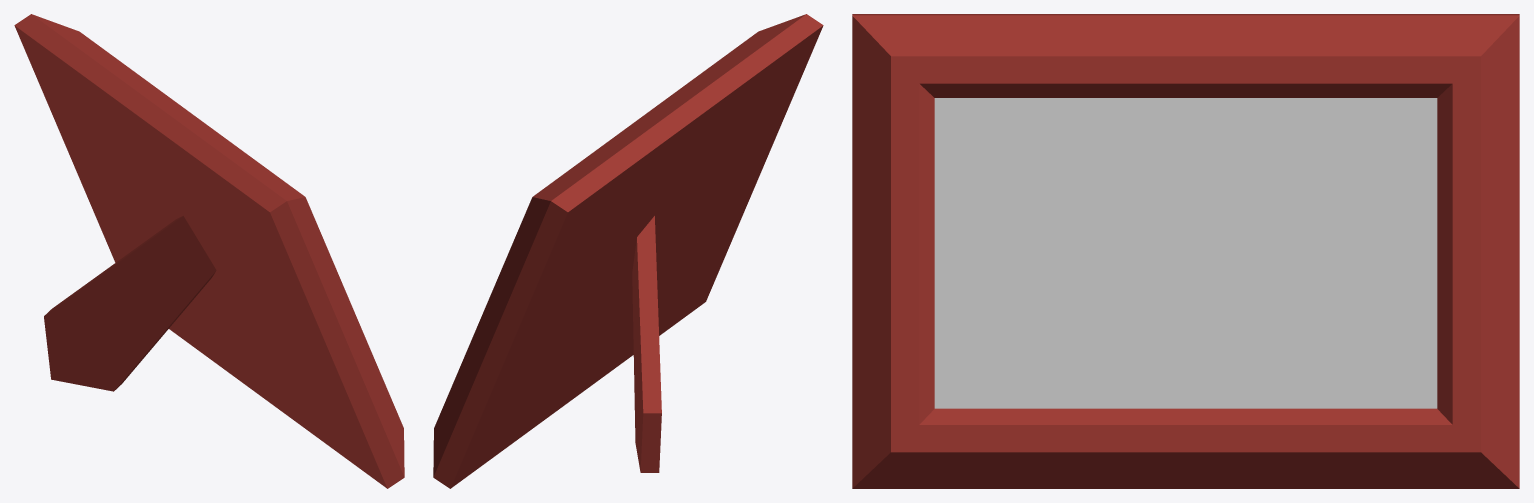
Rendered from pictureframe.fbx.
3 views of the same model, side by side, from view 1: azimuth 30°, elevation 25°; view 2: azimuth 150°, elevation 25°; view 3: azimuth 270°, elevation 25° (orthographic). The views are drawn at different scales.
Visible parts, largest first — view 1: Cube; view 2: Cube; view 3: Cube.
Part boxes in pixels (left/top/right/bottom): Cube: left=14, top=14, right=404, bottom=488; Cube: left=433, top=14, right=823, bottom=488; Cube: left=852, top=14, right=1519, bottom=488.
Bounding box in the file's own units: 81.8 × 135 × 200.
